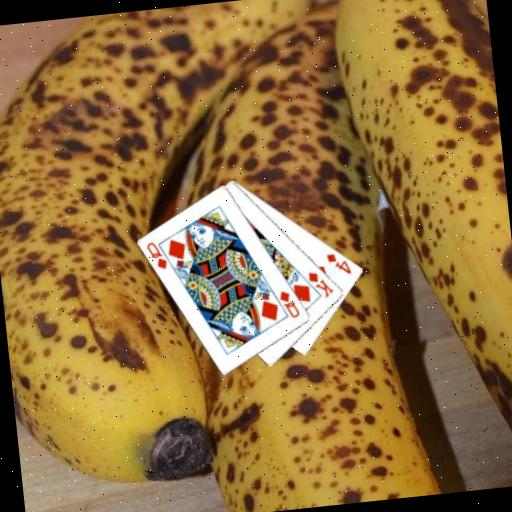4D: (324, 248, 354, 278)
KD: (304, 267, 336, 301)
QD: (276, 286, 302, 321), (144, 238, 170, 273)
